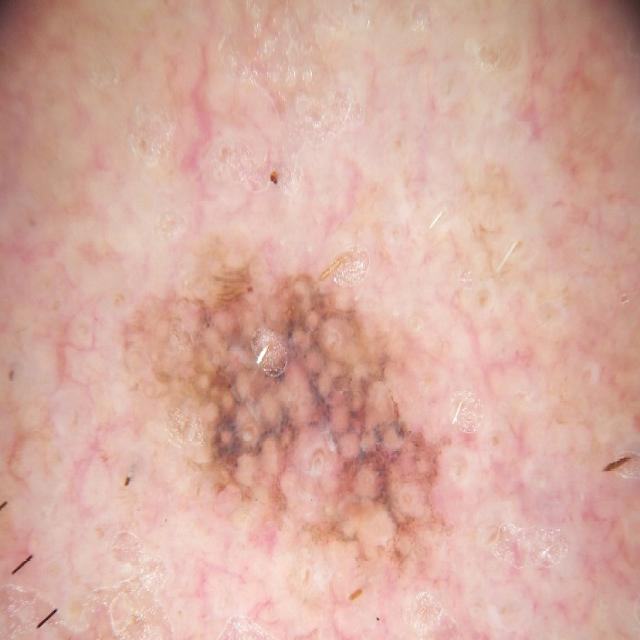Melanoma: (98, 219, 500, 632)
